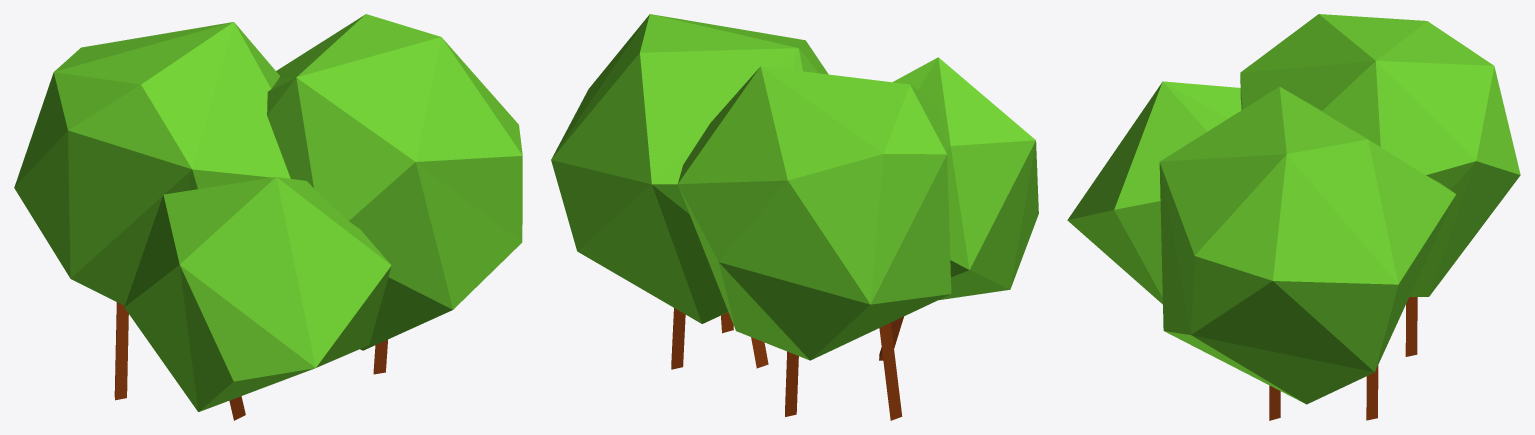
The model's file is BushScaled 1.fbx.
3 renders of one model, left to right at view 1: azimuth 30°, elevation 25°; view 2: azimuth 150°, elevation 25°; view 3: azimuth 270°, elevation 25°, orthographic. The views are drawn at different scales.
Parts seen in each view (by area): view 1: Icosphere.002; view 2: Icosphere.002; view 3: Icosphere.002.
Part boxes in pixels (box(x1,y1,x2,y2)): Icosphere.002: box(14, 14, 522, 420); Icosphere.002: box(551, 14, 1038, 420); Icosphere.002: box(1067, 14, 1520, 420).
Bounding box in the file's own units: 182 × 143 × 184.
